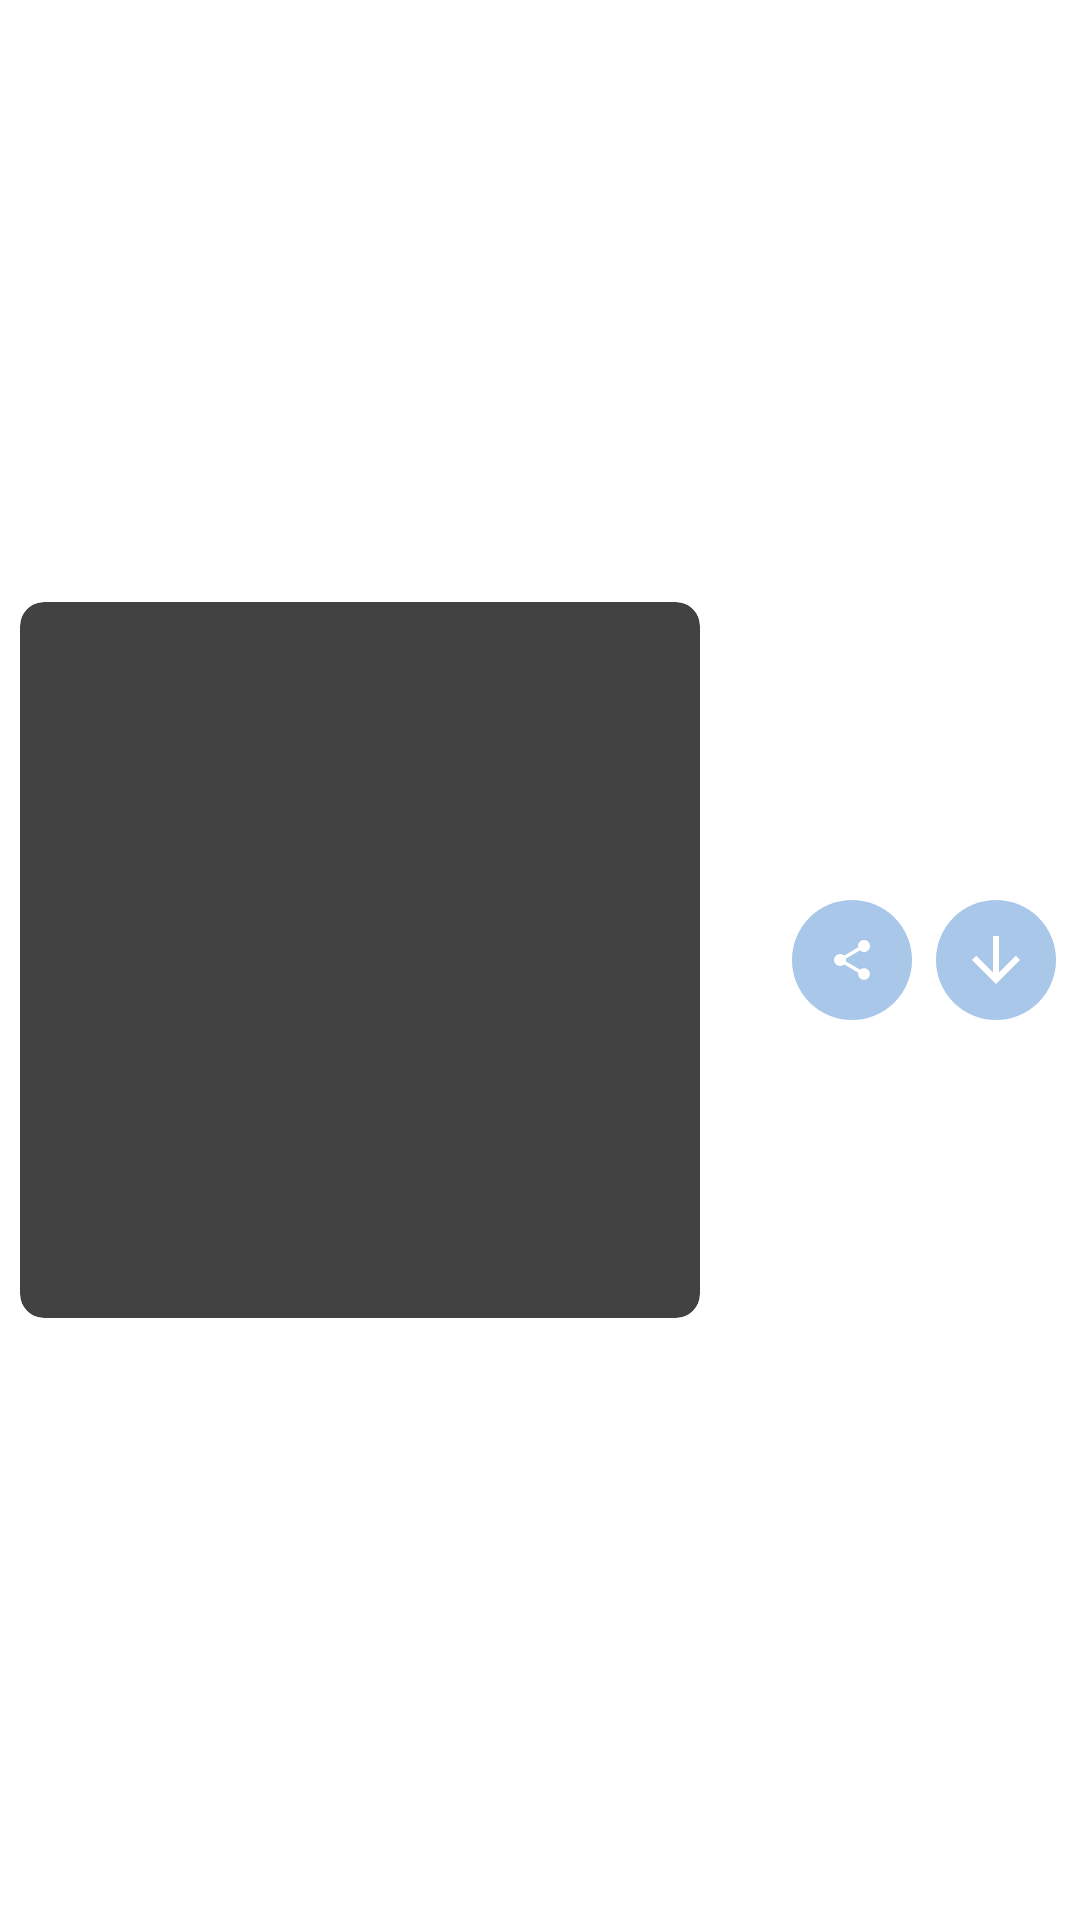

Icon click points for this 1080w x 1920h phone screenshot, format (x=x, y=y):
arrow downward: (x=996, y=960)
share: (x=852, y=960)
